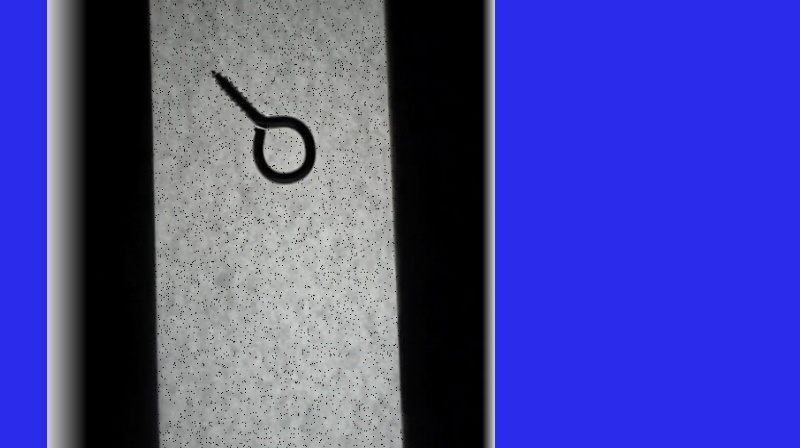O001: (207, 63, 320, 189)
